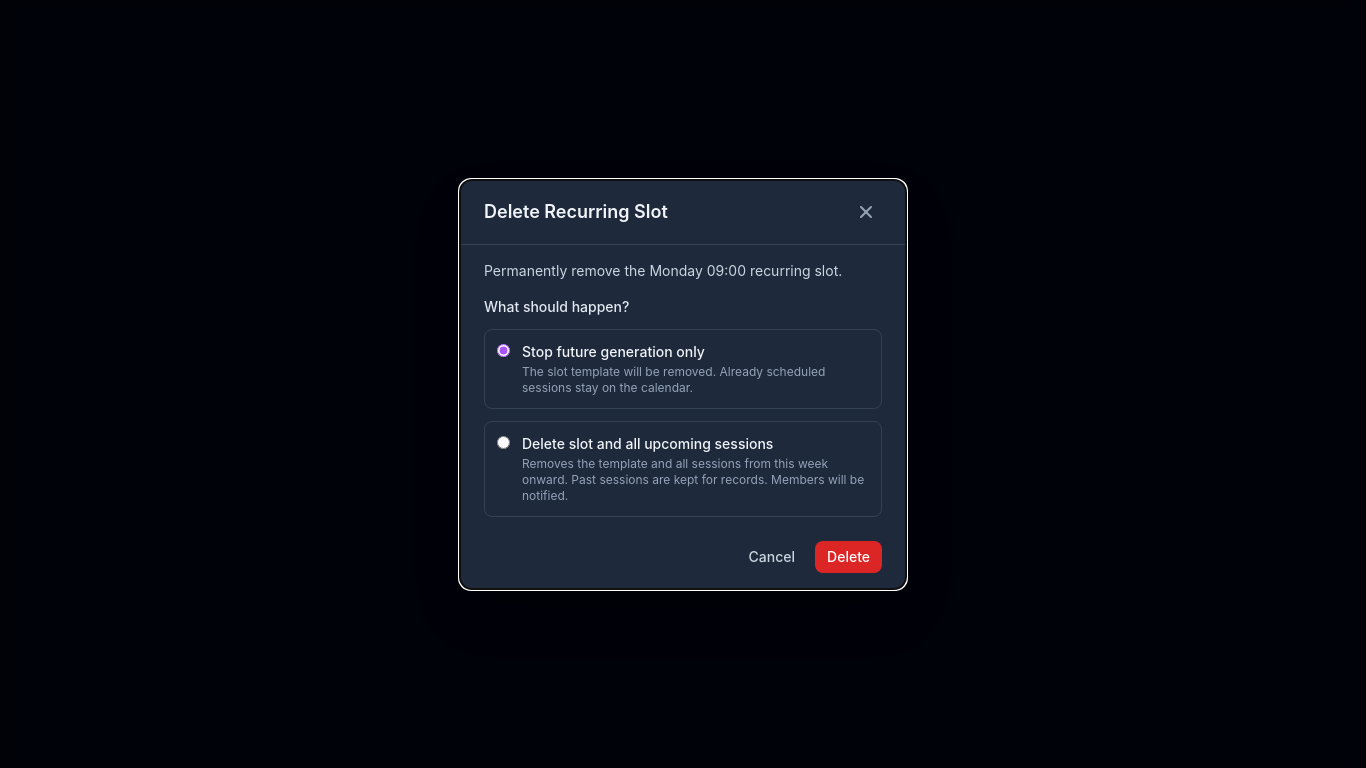
Test: DeleteRecurringSlotModal — i18n › shows translated error on network failure
The width and height of the screenshot is (1366, 768).
// Click the Delete button
Click the button "Delete": (849, 556) [815,540,882,572]
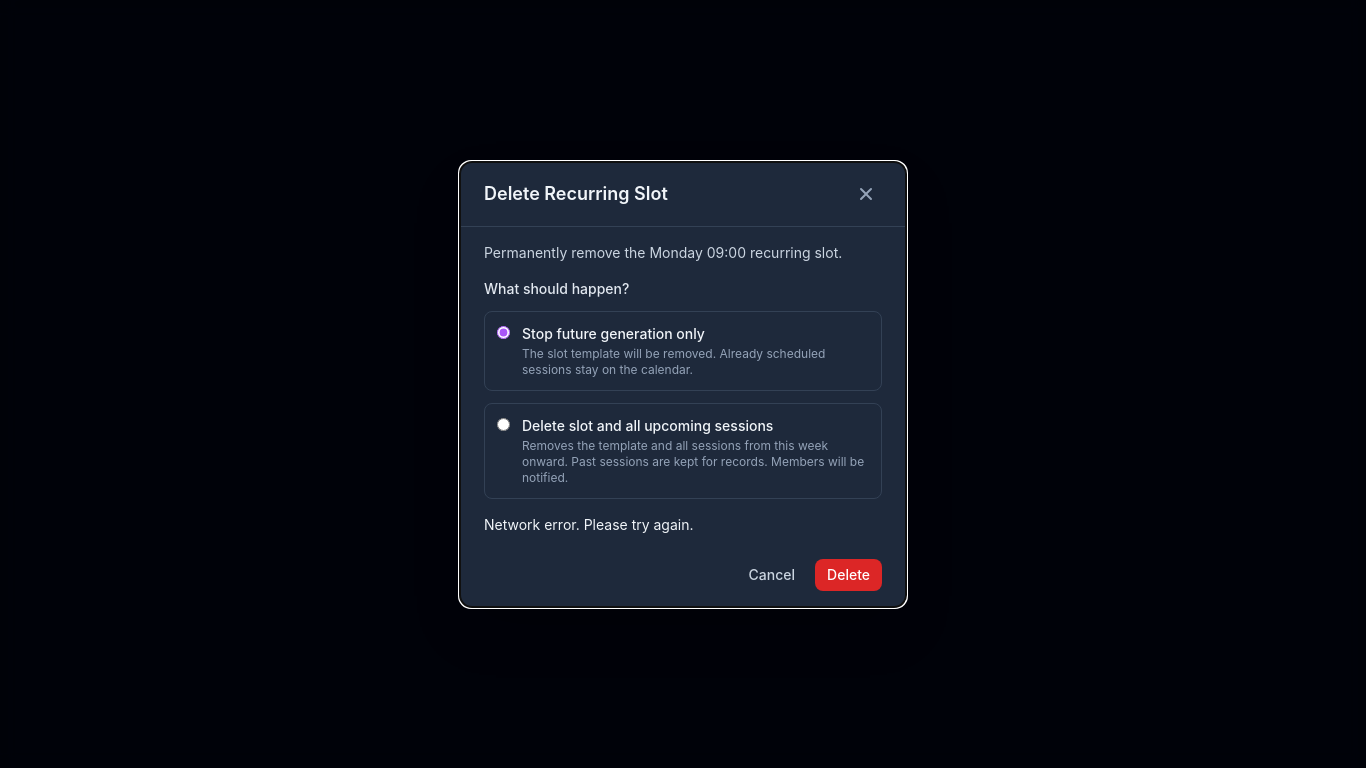
Now the text "Network error. Please try again." is shown, box [484,516,694,532]
